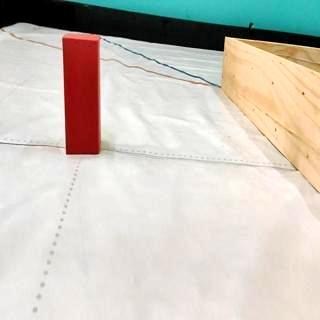redbox: (62, 32, 102, 154)
